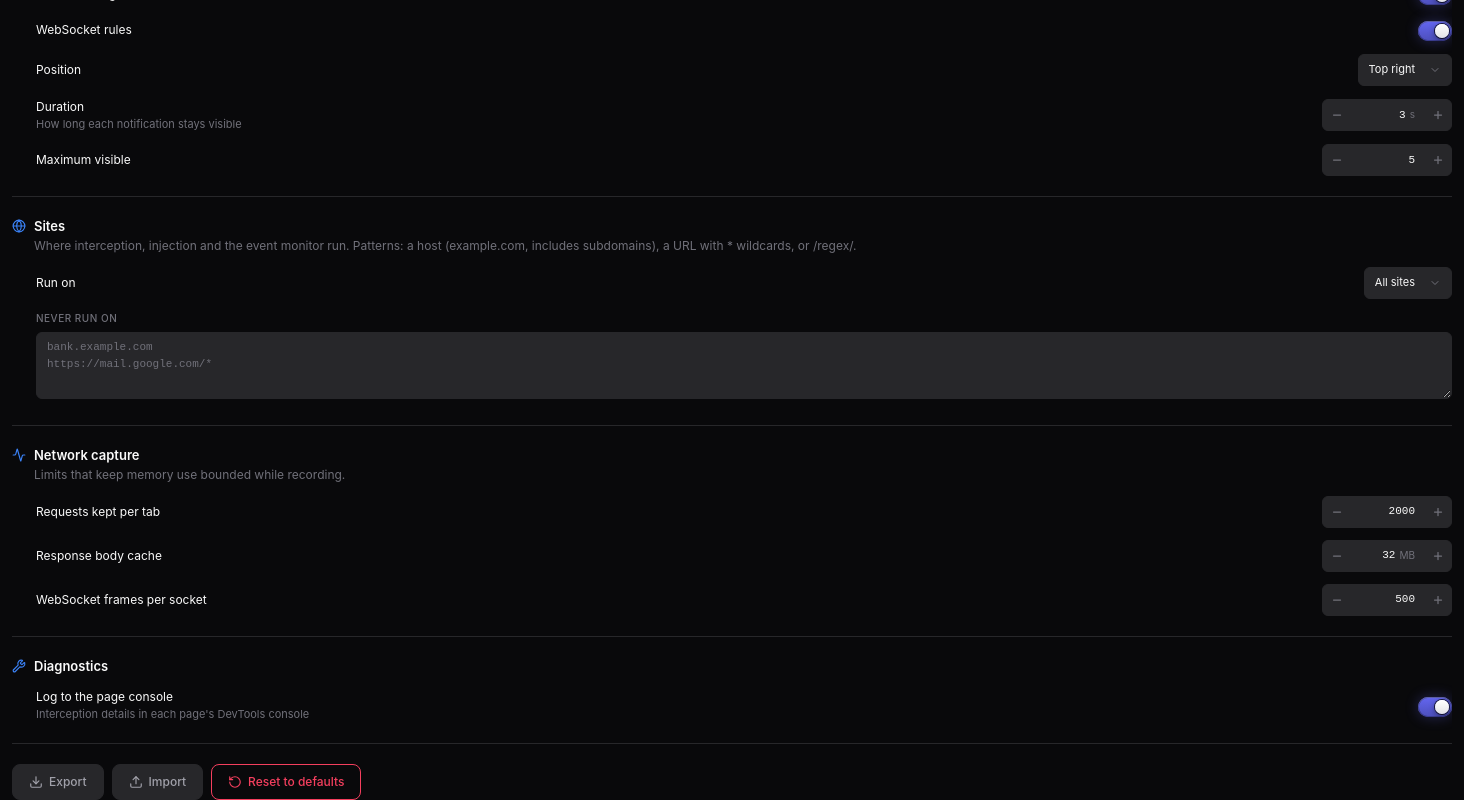
SettingsPanel › resets to defaults
The width and height of the screenshot is (1464, 800).
(page scrolled)
Click the button "Reset to defaults".
click(286, 782)  # box [211, 764, 362, 799]
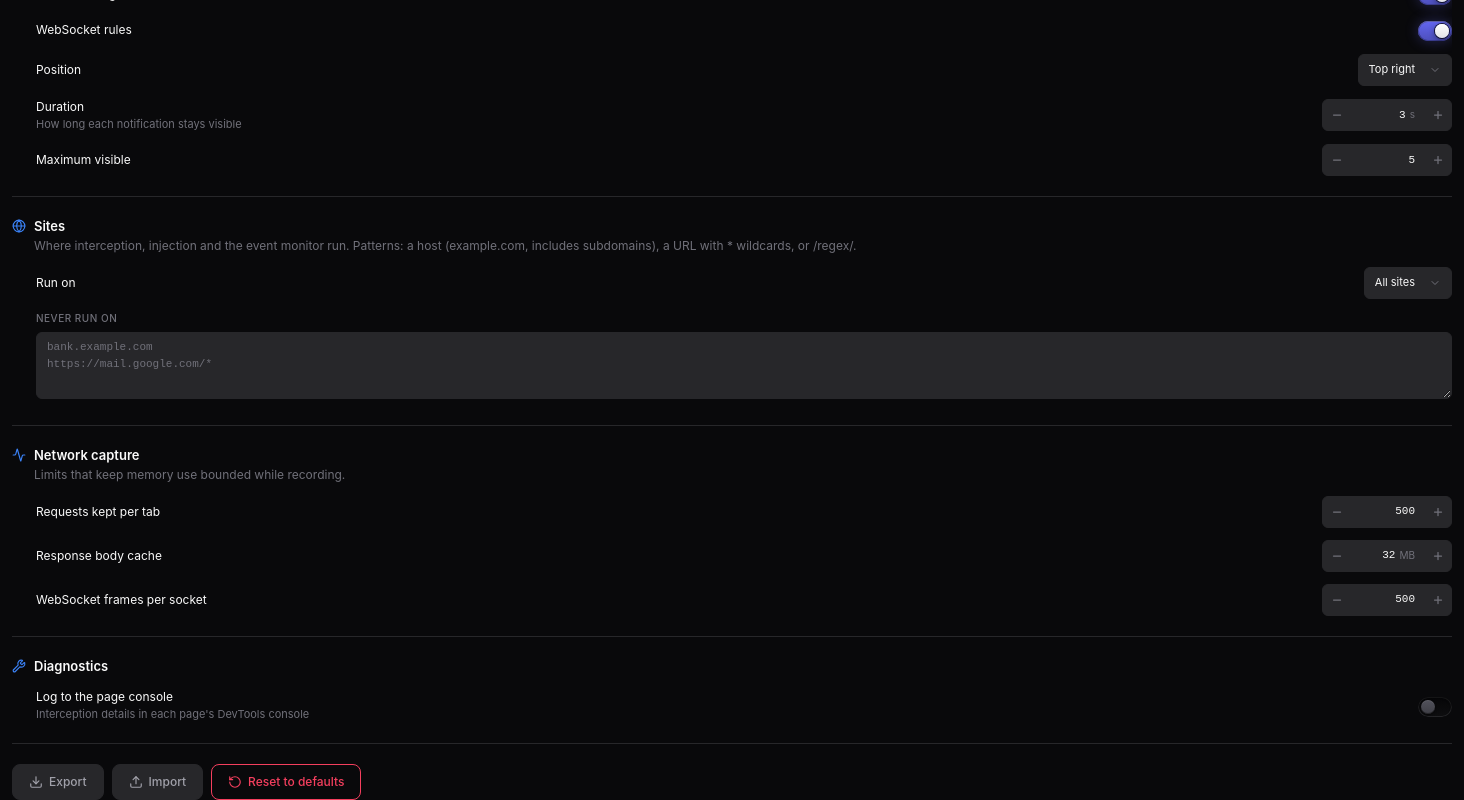
Expected: the switch named "Log to the page console" is not checked, [1418, 697, 1452, 717]
Expected: the number field named "Requests kept per tab" holds "500", [1381, 503, 1415, 520]
